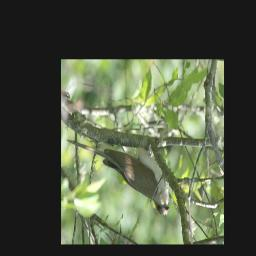Cuckoo: (66, 136, 169, 217)
